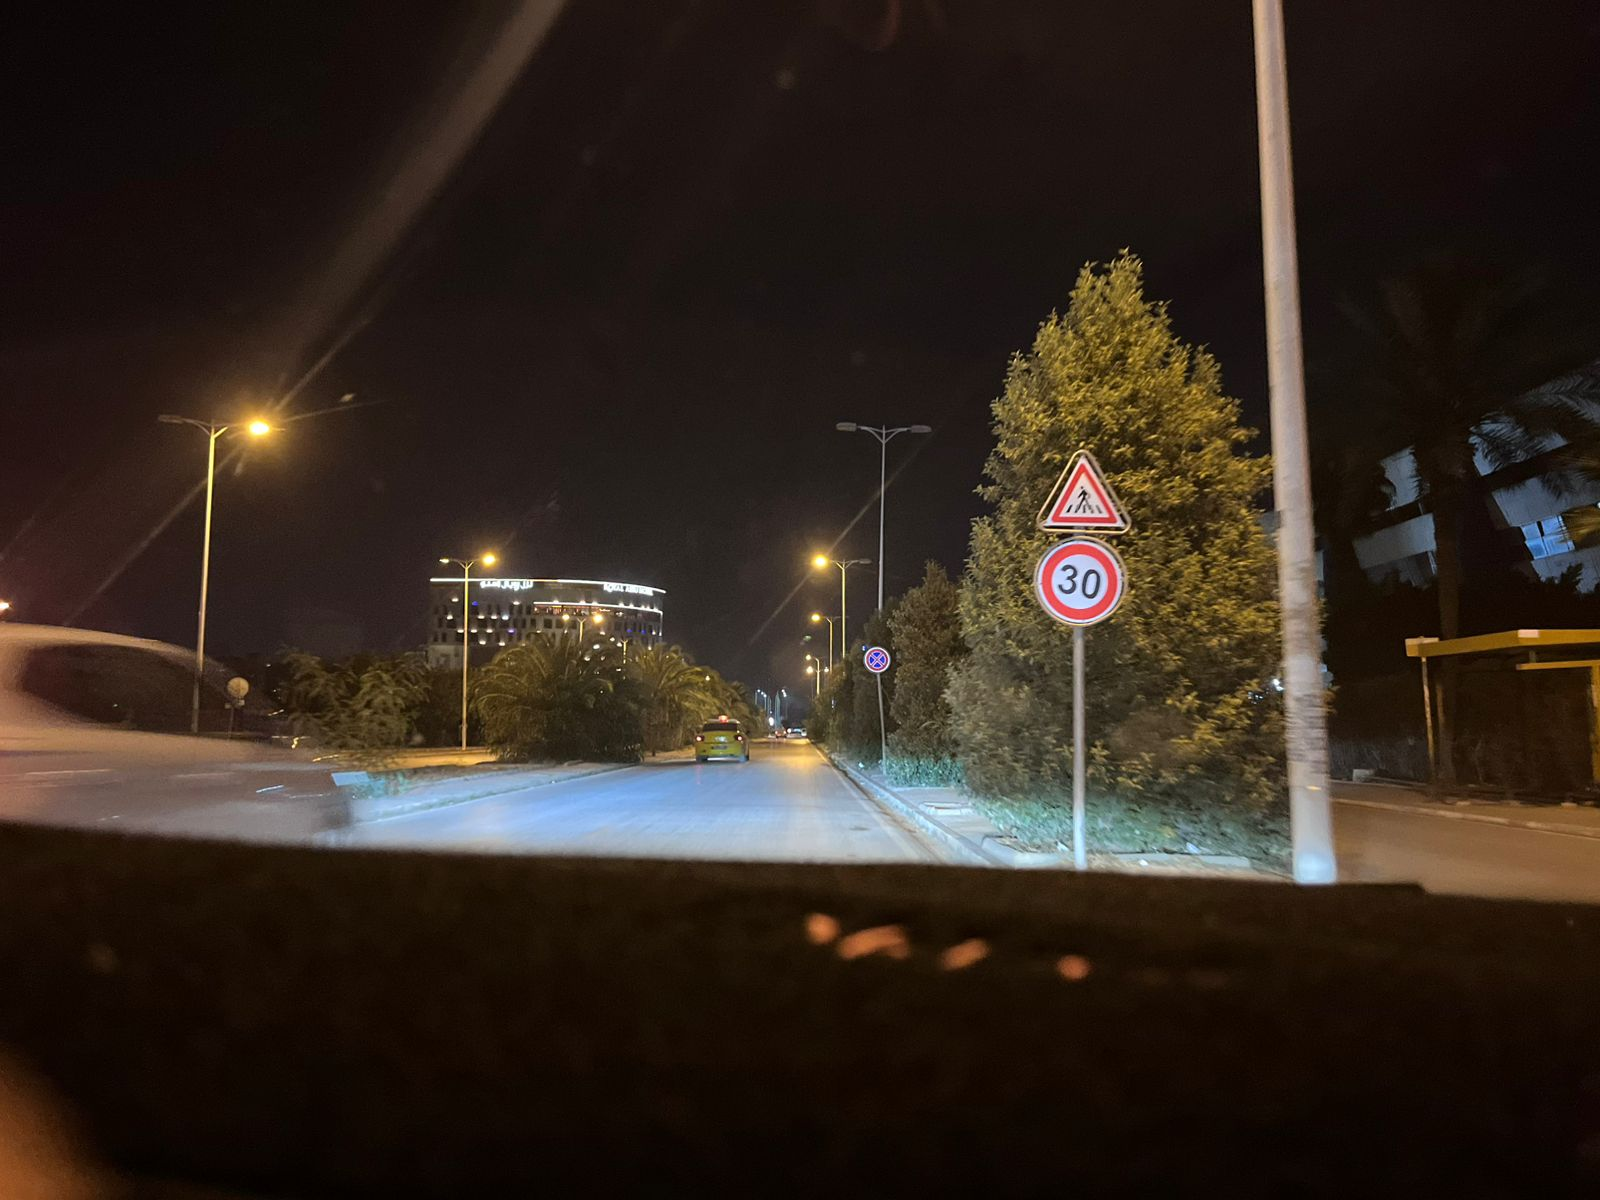SpeedLimit30: (1031, 534, 1131, 630)
